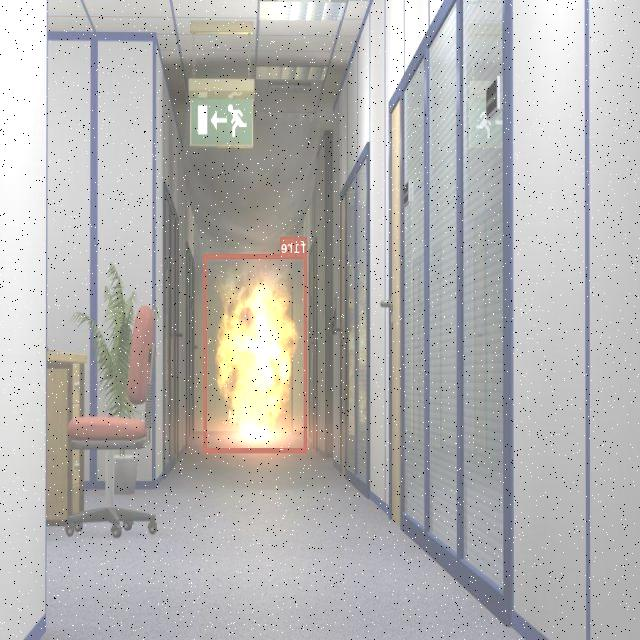fire: (205, 253, 308, 452)
